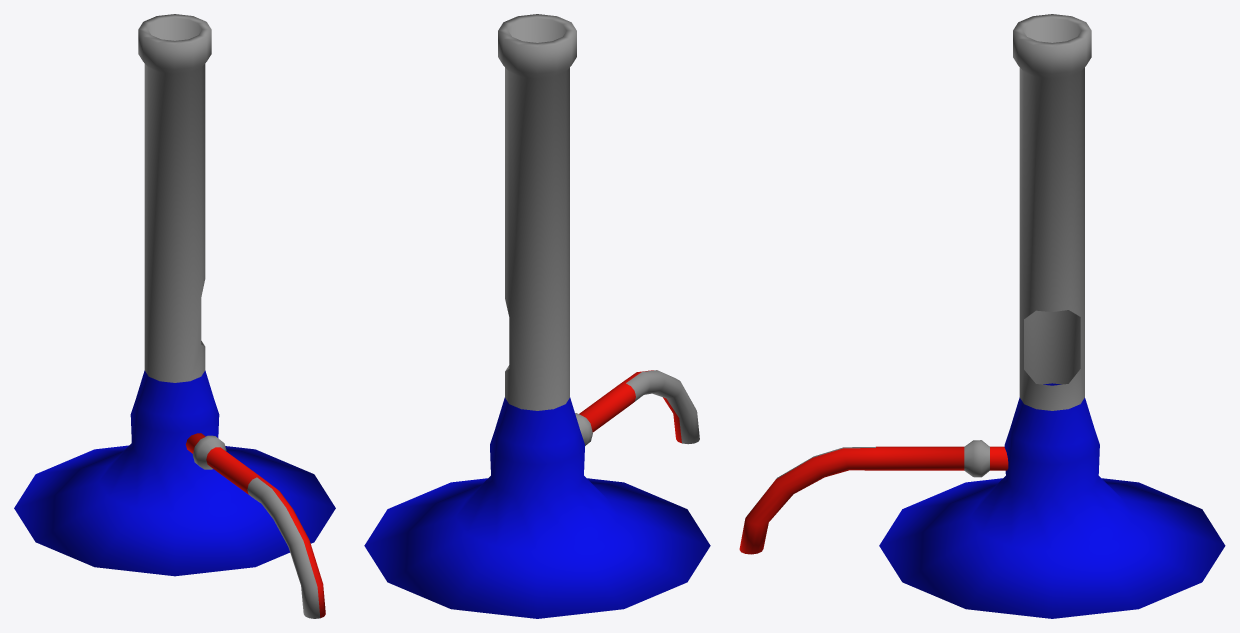
The model's file is Burner 3.fbx.
The picture shows the model from 3 angles, left to right: view 1: azimuth 30°, elevation 25°; view 2: azimuth 150°, elevation 25°; view 3: azimuth 270°, elevation 25°; orthographic projection. The views are drawn at different scales.
Parts seen in each view (by area): view 1: Cylinder, Cylinder.001; view 2: Cylinder, Cylinder.001; view 3: Cylinder, Cylinder.001.
Part boxes in pixels (x1=…): Cylinder: x1=14, y1=14, x2=335, y2=576; Cylinder.001: x1=185, y1=433, x2=325, y2=618; Cylinder: x1=364, y1=14, x2=710, y2=618; Cylinder.001: x1=575, y1=370, x2=699, y2=445; Cylinder: x1=879, y1=14, x2=1225, y2=618; Cylinder.001: x1=739, y1=440, x2=1008, y2=554.
Size of the model in its own units: 170 by 281 by 238.
